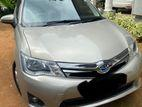car: (1, 0, 142, 107)
